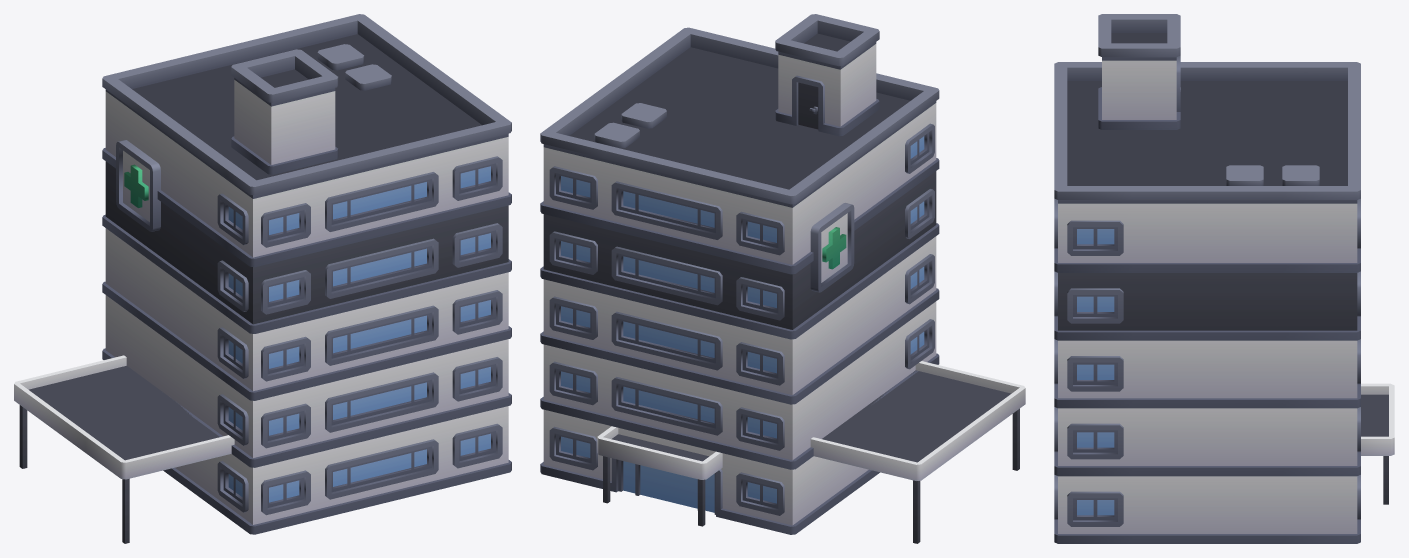
Rendered from building-n.glb.
The picture shows the model from 3 angles, left to right: view 1: azimuth 30°, elevation 25°; view 2: azimuth 150°, elevation 25°; view 3: azimuth 270°, elevation 25°; orthographic projection. The views are drawn at different scales.
Parts seen in each view (by area): view 1: building-n; view 2: building-n; view 3: building-n.
Boxes of the visible parts, x1,y1,x2,y2 form: building-n: (14, 14, 511, 543); building-n: (540, 14, 1025, 543); building-n: (1054, 14, 1394, 543).
Bounding box in the file's own units: 2.32 × 2.48 × 1.82.
Materials: 1 (1 with a texture image).
